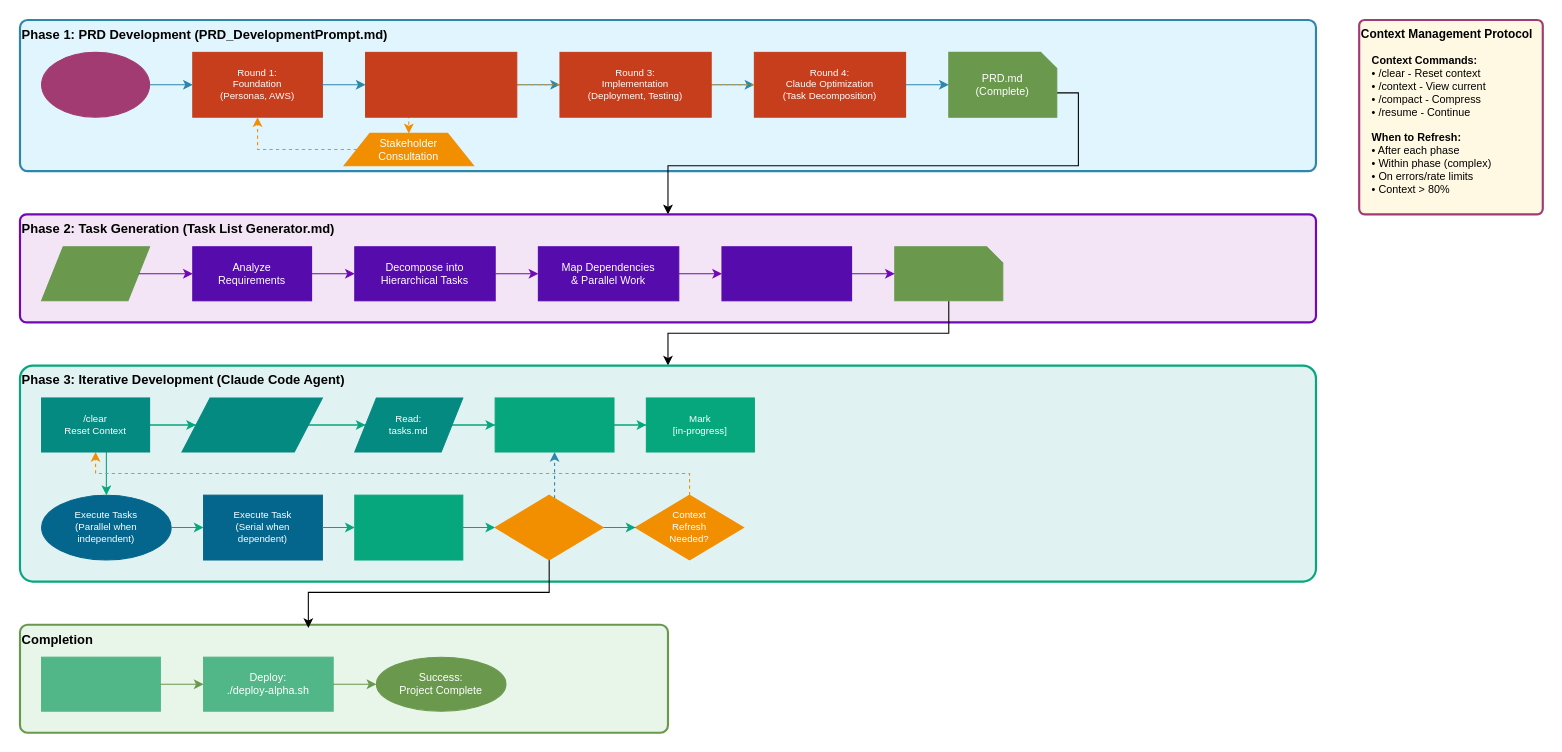
This 1562x752 diagram has some shape labels left out. Each missing label, with the centre of its shape:
Add Verification Criteria: pixel 786 273
Input: PRD.md: pixel 95 273
Load Foundation: CLAUDE.md README.md .env: pixel 251 424
Mark [completed]: pixel 408 527
Phase Complete?: pixel 548 527
Round 2: Technical Deep Dive (Infrastructure, APIs): pixel 440 84
Select Task(s) from tasks.md: pixel 554 424
Start: Project Concept: pixel 95 84
tasks.md [pending] Hierarchical: pixel 948 273
Verify: All Tasks [completed]: pixel 100 683
